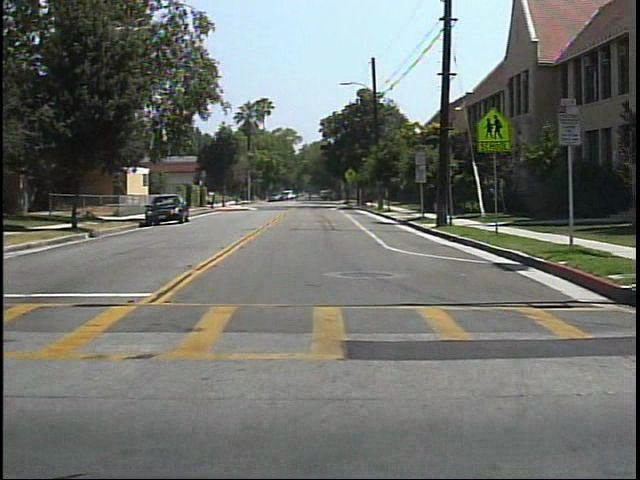person: (303, 188, 318, 206)
